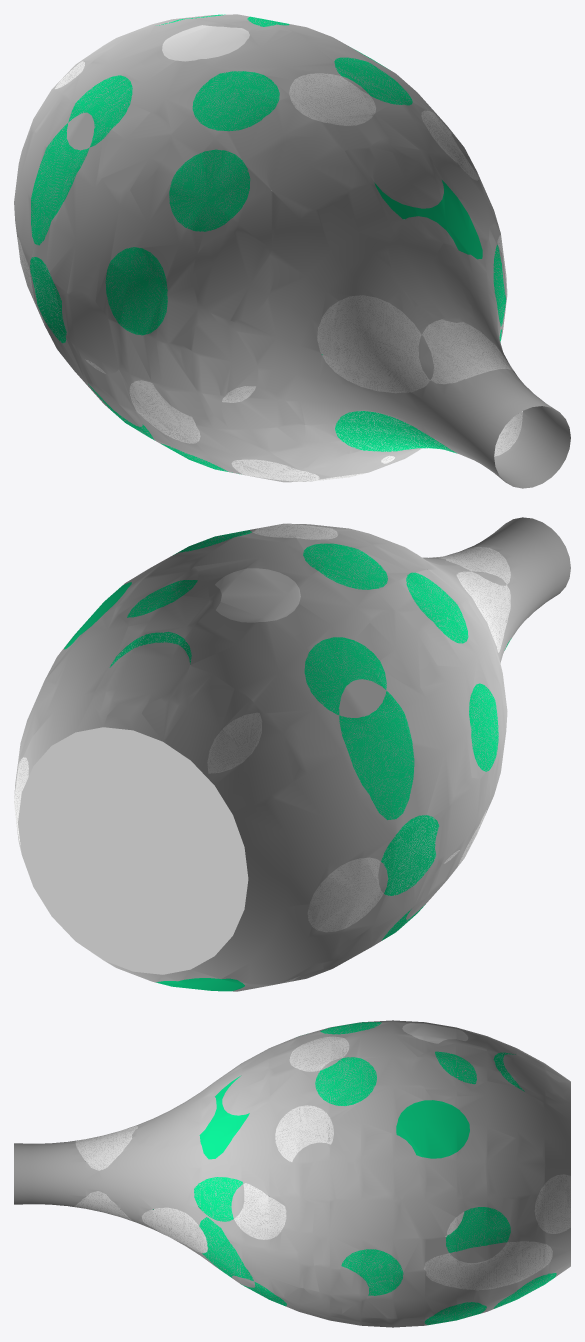
The model's file is model_scale.obj.
The picture shows the model from 3 angles, top to bottom: view 1: azimuth 30°, elevation 25°; view 2: azimuth 150°, elevation 25°; view 3: azimuth 270°, elevation 25°; orthographic projection. The views are drawn at different scales.
Visible parts, largest first — view 1: mesh1_mesh1-geometry; view 2: mesh1_mesh1-geometry; view 3: mesh1_mesh1-geometry.
Boxes of the visible parts, x1,y1,x2,y2 form: mesh1_mesh1-geometry: (14,14,570,488); mesh1_mesh1-geometry: (14,517,570,991); mesh1_mesh1-geometry: (14,1020,570,1327).
Bounding box in the file's own units: 0.12 × 0.12 × 0.2168.
